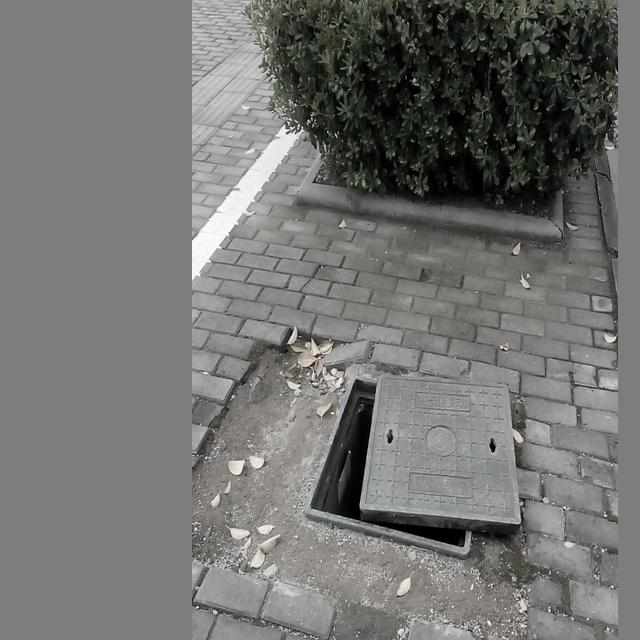uncovered: (304, 368, 523, 554)
